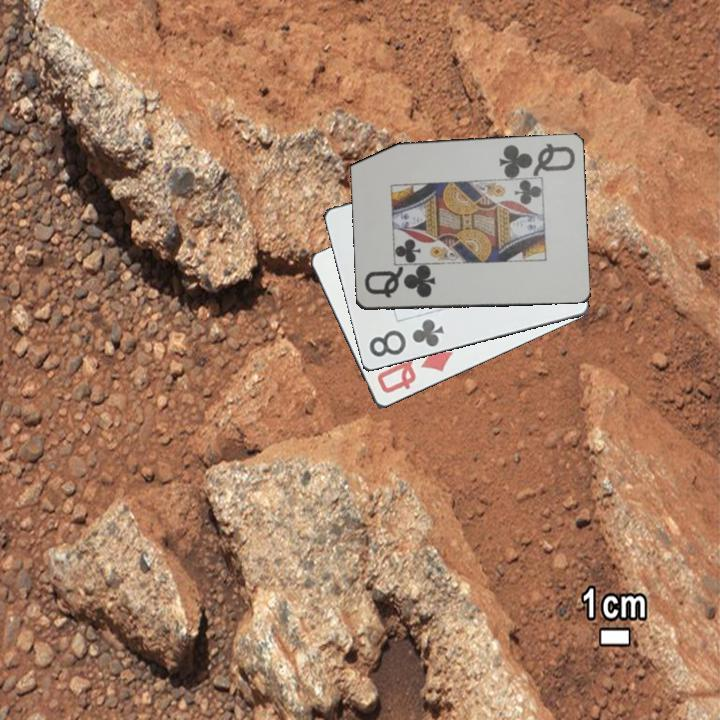8c: (365, 316, 447, 360)
Qc: (495, 140, 578, 179), (360, 267, 438, 301)
Qd: (373, 344, 456, 397)
